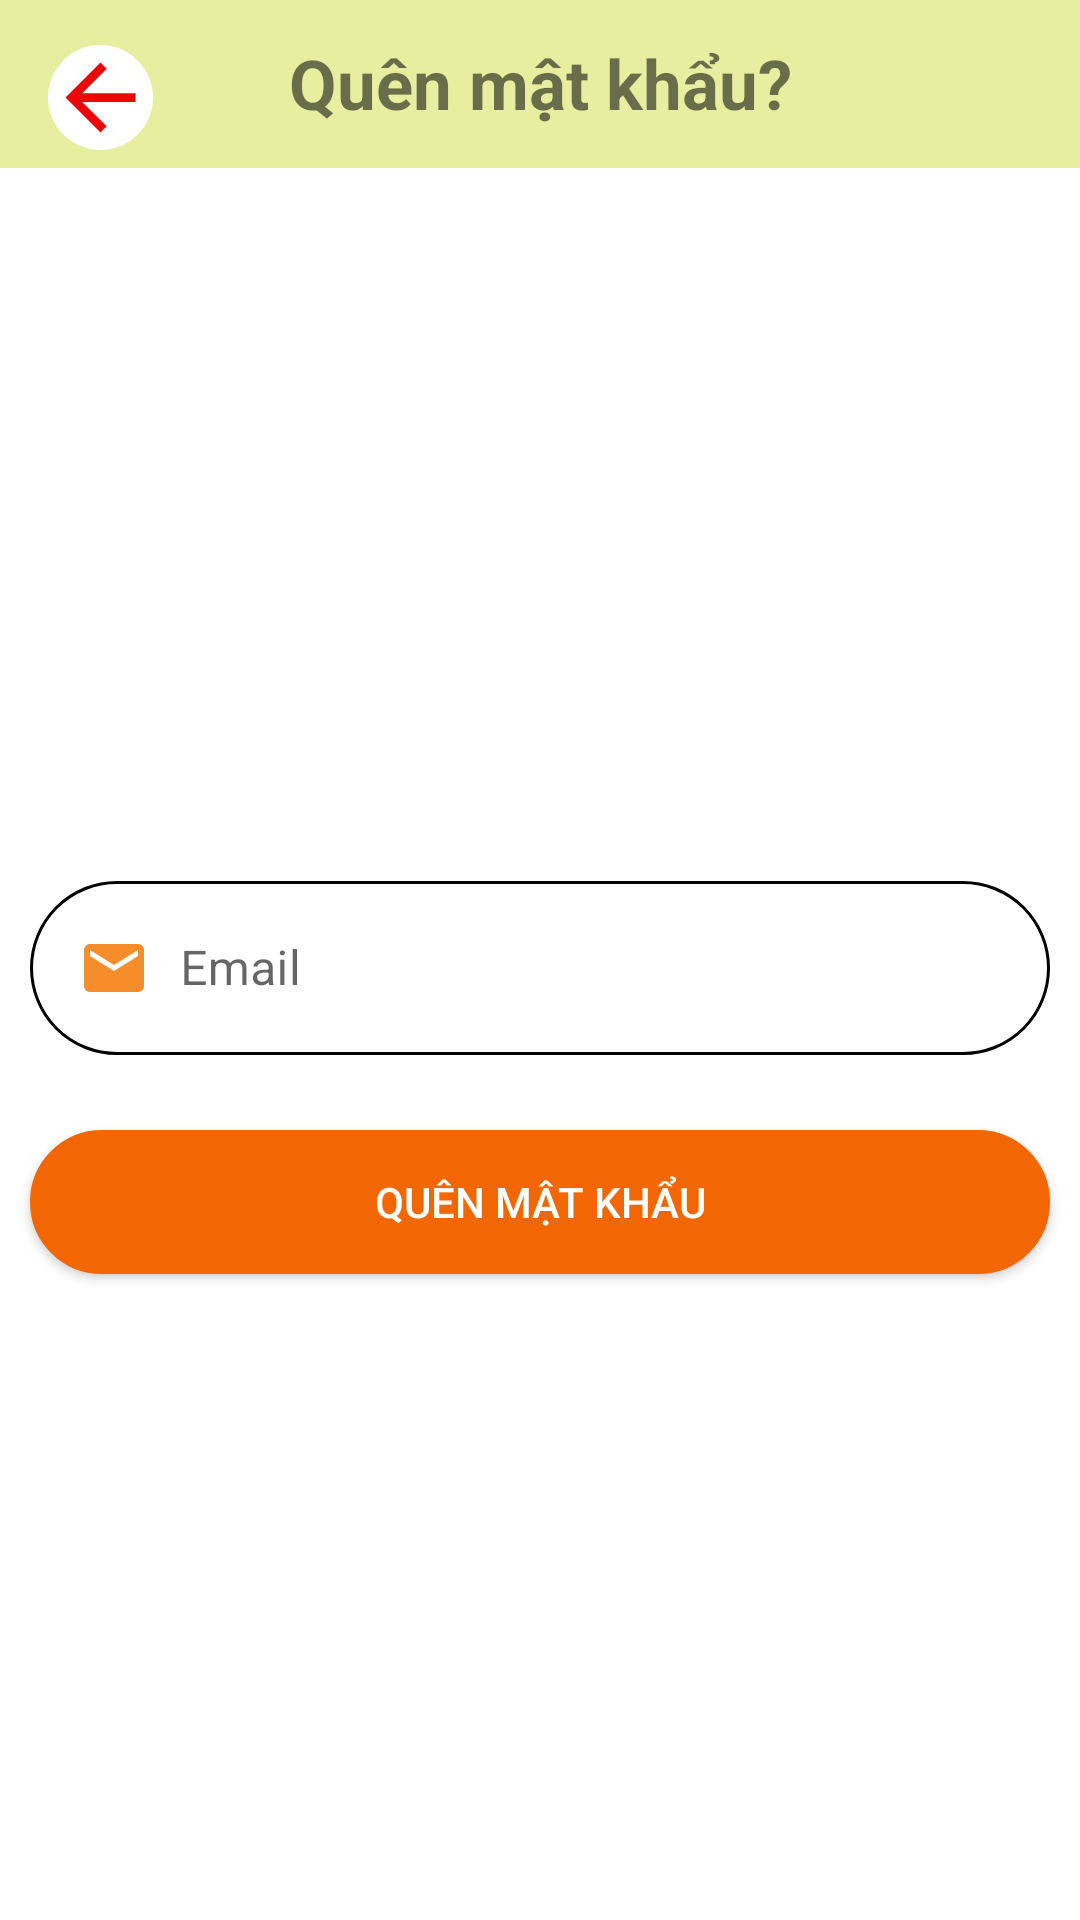

Named icons in this screenshot (1080 × 1920) and their centers, (x,y):
arrow back: (100,97)
